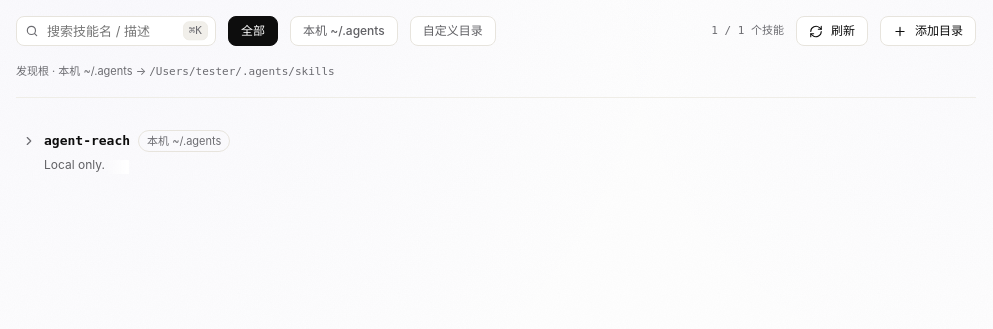
Test case: SkillsView › lets the user type a custom dir and load its skills directly
Expected: the text "agent-reach" is shown, 44,130 -> 130,152
Click the button "自定义目录": (453, 31) 410,16 -> 496,46
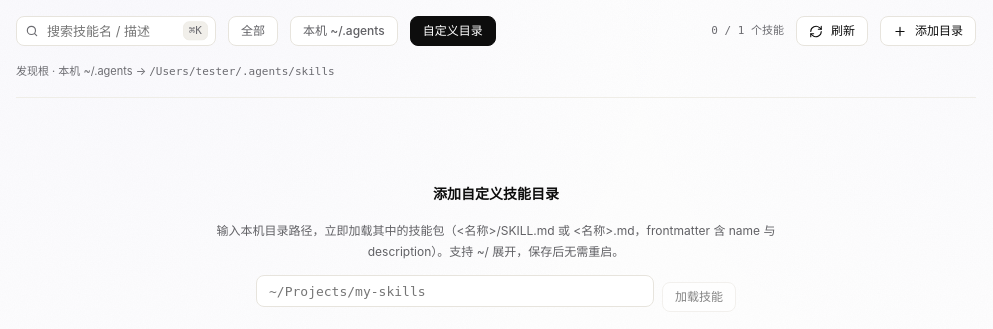
Expected: the text "添加自定义技能目录" is shown, 433,182 -> 559,205
In the field named "自定义技能目录路径": (455, 291) 256,275 -> 654,307, type "/tmp/my-skills"
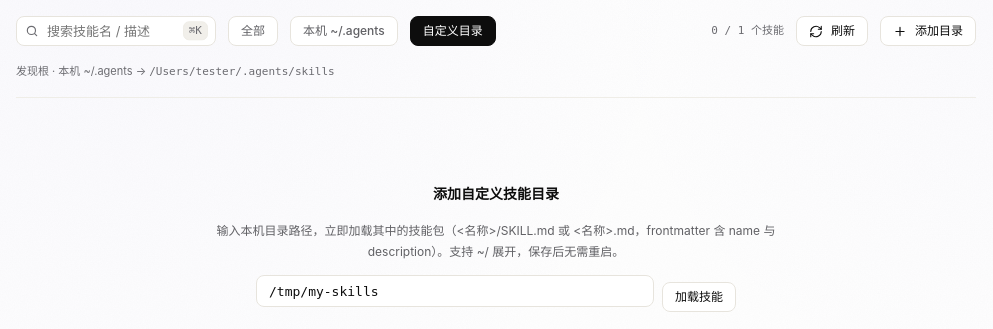
Click the button "加载技能": (699, 297) 662,282 -> 736,312
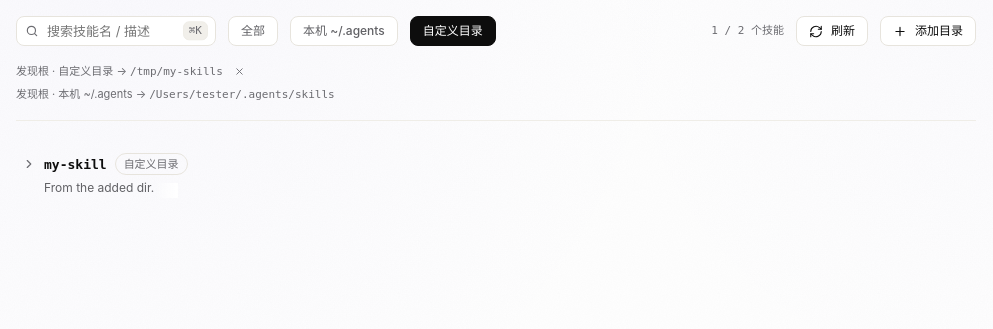
Expected: the text "my-skill" is shown, 44,154 -> 107,175
Expected: the text "添加自定义技能目录" is gone
